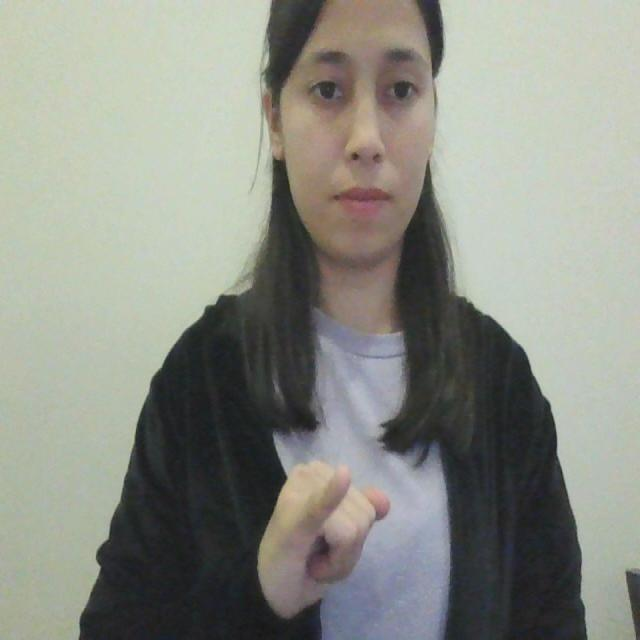kotu: (254, 450, 397, 611)
